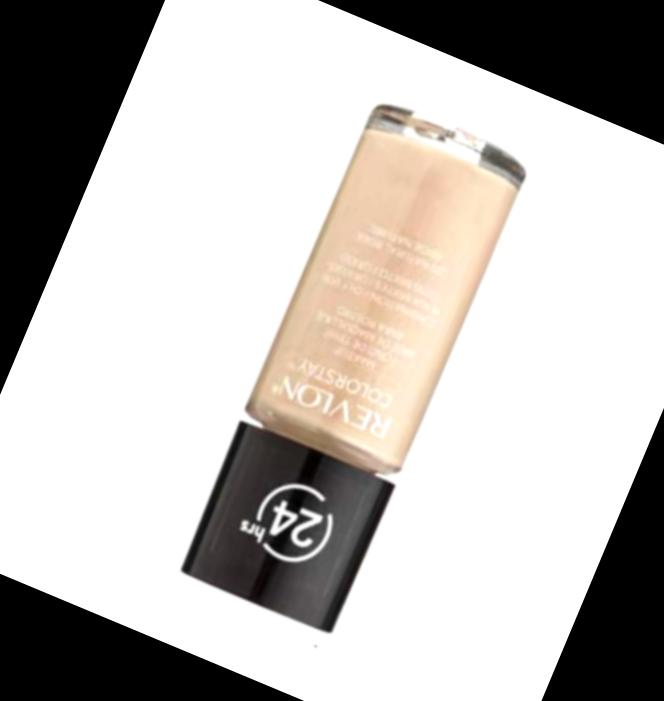cosmetic: (178, 99, 532, 635)
